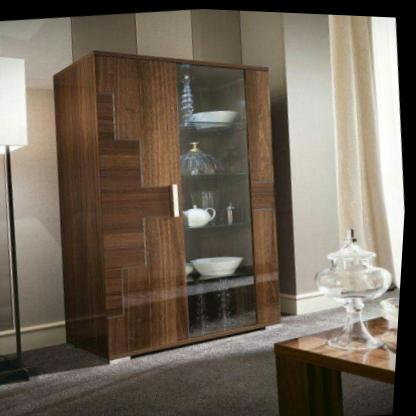Cupboard: (53, 49, 285, 360)
